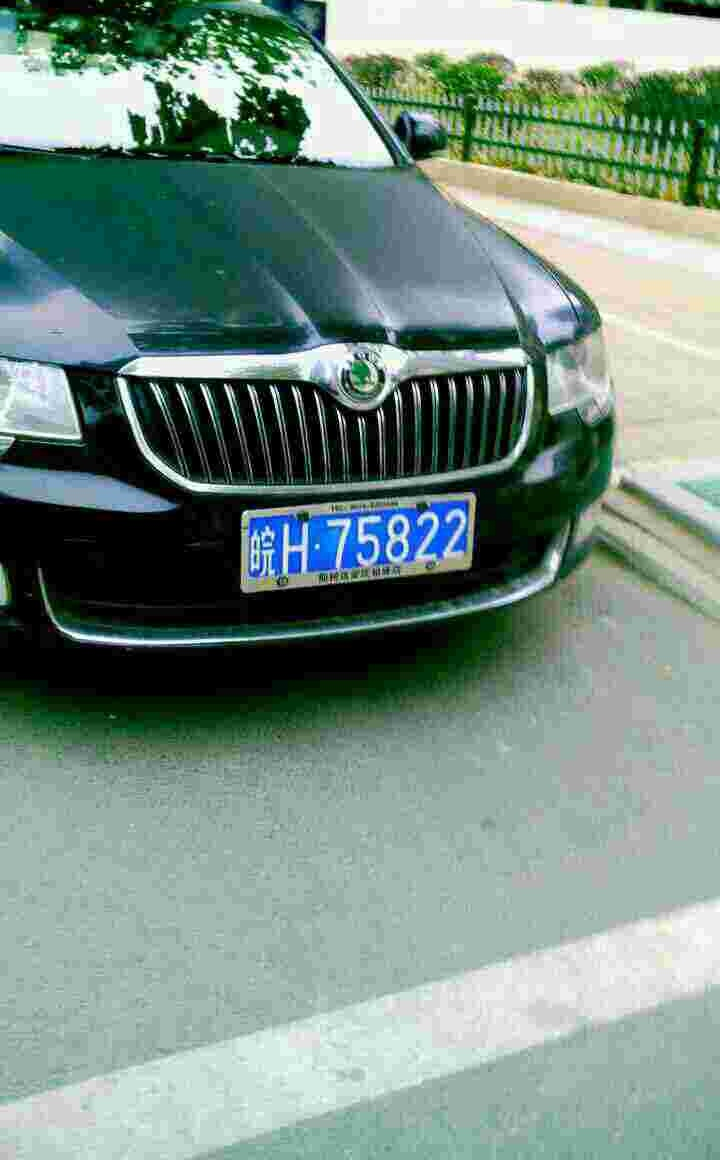license_plate: (239, 494, 491, 575)
